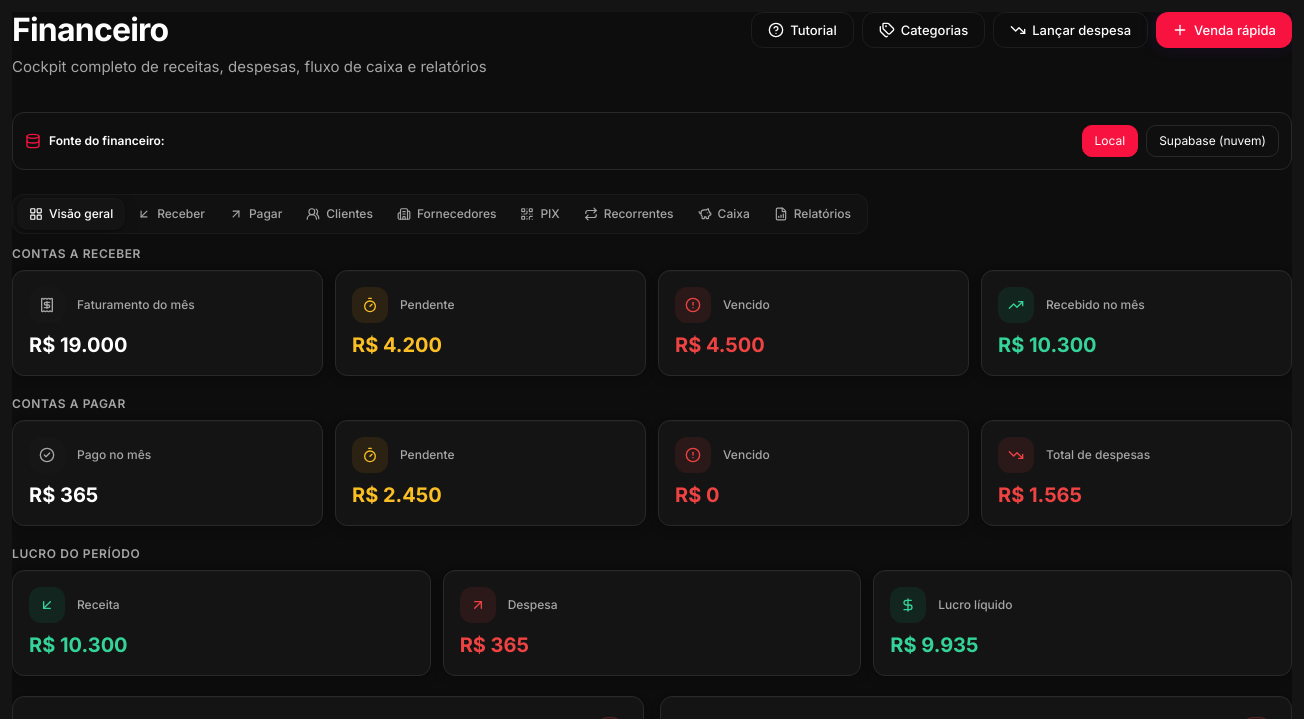
Scenario: Financeiro · painel de leitura Supabase renderiza (item 3/4, novo default) › lista real da nuvem aparece ao trocar pra Supabase (nuvem) (explícito)
The width and height of the screenshot is (1304, 719).
Click the button "Supabase (nuvem)" at (1213, 141), box [1146,125,1279,157]
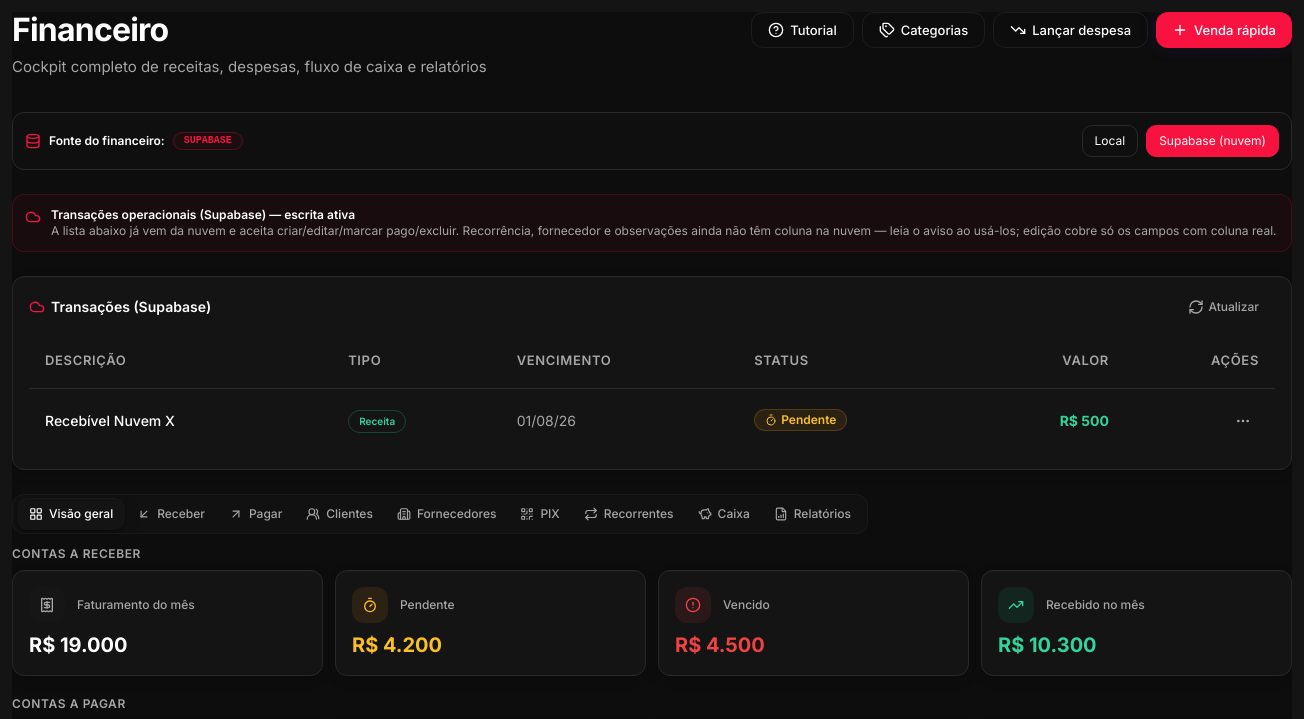
Expected: the text "Recebível Nuvem X" is shown, [45,410,175,433]
